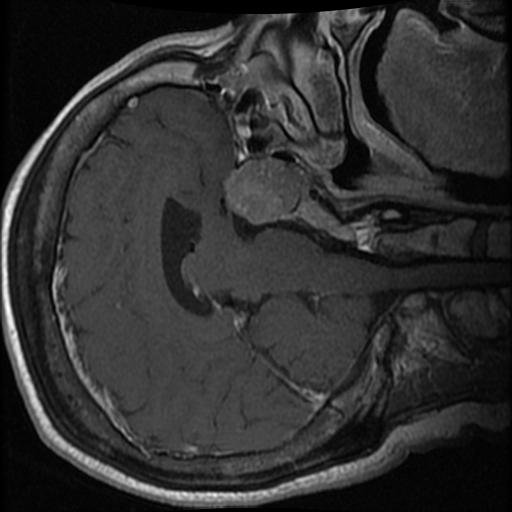pituitary tumour: (225, 157, 308, 222)
